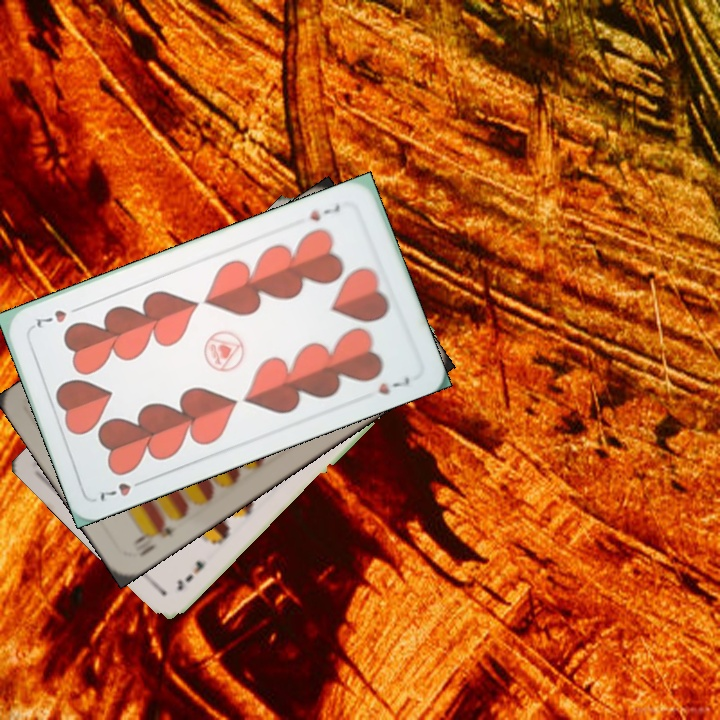E10: (128, 516, 175, 560)
E7: (173, 556, 208, 594)
H7: (93, 475, 150, 504), (305, 200, 343, 224)
